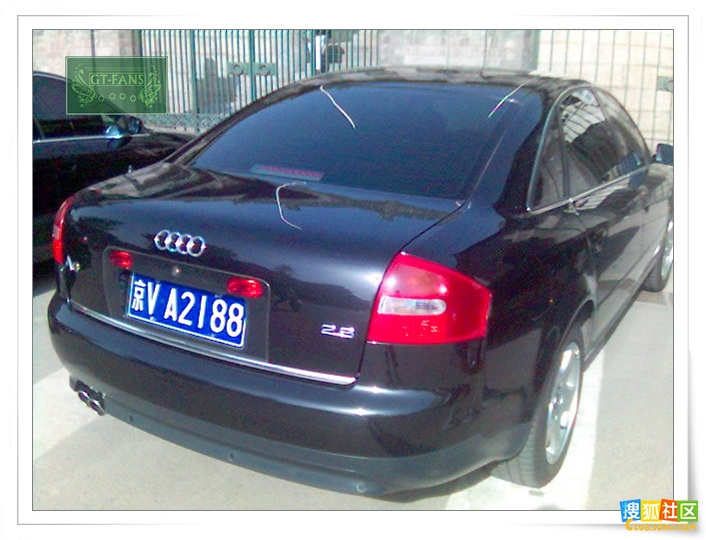plate_number: (124, 271, 248, 346)
